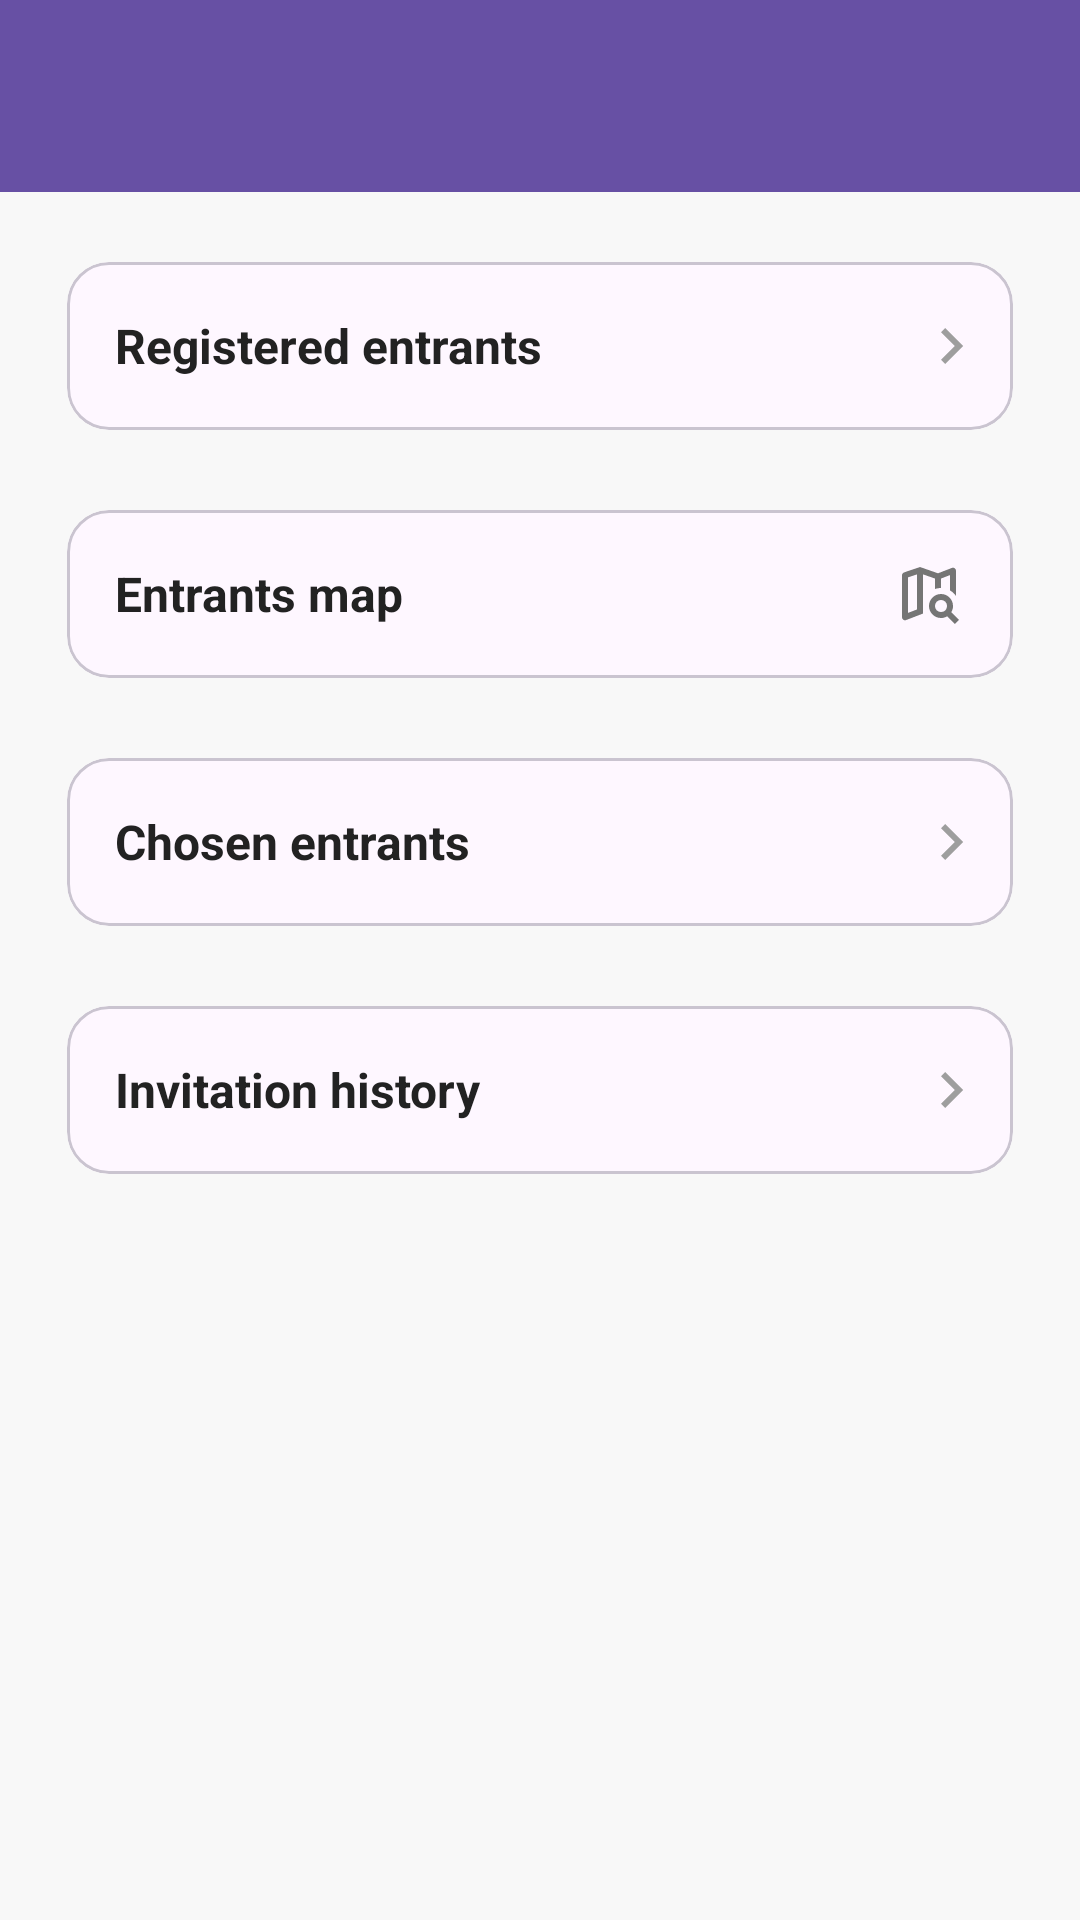

Icons on this 1080 × 1920 Android screen, each with the point to tap as [x,y]:
chevron right: [952,346], [952,842], [952,1090]
